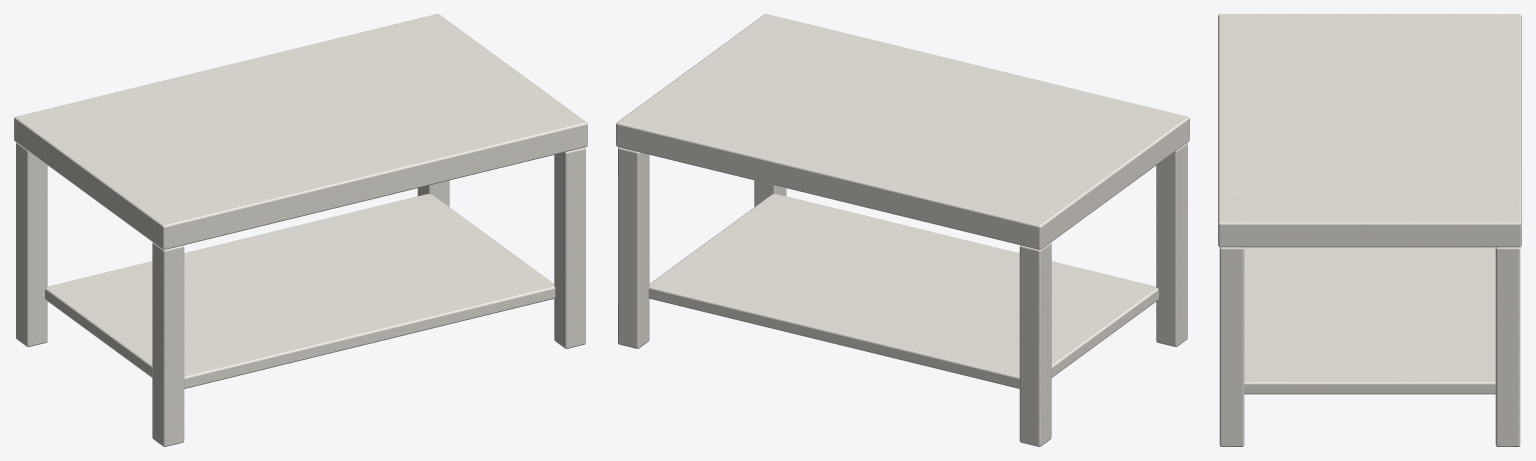
Rendered from lack-mobile.glb.
The picture shows the model from 3 angles, left to right: view 1: azimuth 30°, elevation 25°; view 2: azimuth 150°, elevation 25°; view 3: azimuth 270°, elevation 25°; orthographic projection.
Visible parts, largest first — view 1: LACK Coffee table; view 2: LACK Coffee table; view 3: LACK Coffee table.
Boxes of the visible parts, x1=… form: LACK Coffee table: x1=14, y1=14, x2=587, y2=446; LACK Coffee table: x1=616, y1=14, x2=1189, y2=446; LACK Coffee table: x1=1218, y1=14, x2=1521, y2=446.
Size of the model in its own units: 0.9 by 0.45 by 0.55.
Materials: 1 (1 with a texture image).
